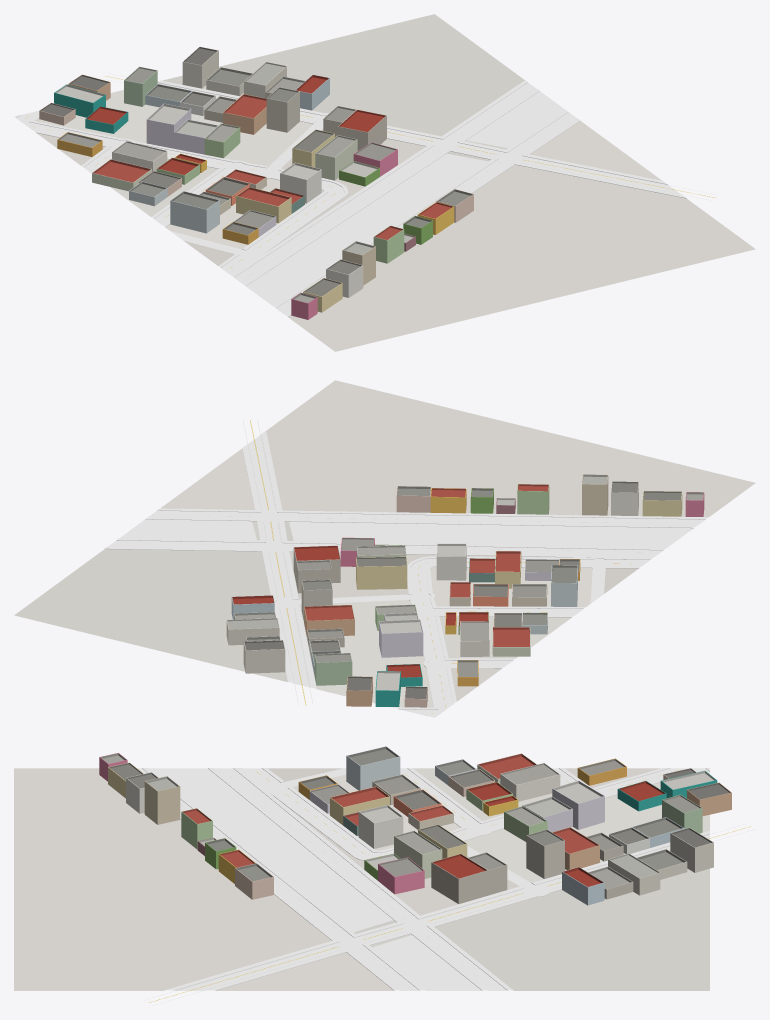
3 views of the same model, one above another, from view 1: azimuth 30°, elevation 25°; view 2: azimuth 150°, elevation 25°; view 3: azimuth 270°, elevation 25° (orthographic). The views are drawn at different scales.
Parts seen in each view (by area): view 1: ground, walls, roofs, asphalt, grass, sidewalk, markings; view 2: ground, walls, roofs, asphalt, sidewalk, grass, markings; view 3: ground, walls, roofs, asphalt, grass, sidewalk, markings.
Boxes of the visible parts, left/top/right/bottom form: ground: left=36, top=14, right=755, bottom=351; walls: left=39, top=50, right=473, bottom=319; roofs: left=39, top=46, right=473, bottom=303; asphalt: left=16, top=82, right=680, bottom=314; grass: left=246, top=91, right=565, bottom=306; sidewalk: left=14, top=80, right=686, bottom=316; markings: left=25, top=73, right=718, bottom=311; ground: left=14, top=380, right=755, bottom=707; walls: left=226, top=476, right=704, bottom=707; roofs: left=226, top=474, right=704, bottom=699; asphalt: left=108, top=435, right=705, bottom=716; sidewalk: left=105, top=431, right=707, bottom=717; grass: left=120, top=519, right=693, bottom=548; markings: left=126, top=420, right=650, bottom=713; ground: left=14, top=768, right=709, bottom=990; walls: left=99, top=756, right=731, bottom=905; roofs: left=99, top=746, right=731, bottom=889; asphalt: left=137, top=768, right=709, bottom=990; grass: left=149, top=768, right=481, bottom=990; sidewalk: left=142, top=768, right=709, bottom=990; markings: left=144, top=770, right=755, bottom=1005.
Size of what is drawn, in the model's own units: 206 by 13.28 by 266.
